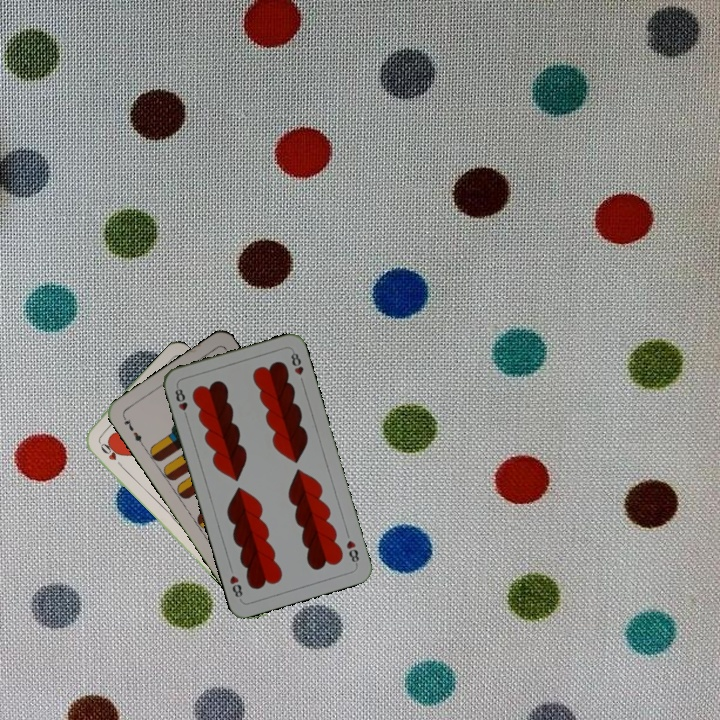E7: (119, 412, 146, 448)
H8: (171, 382, 191, 422), (342, 536, 362, 568)
HO: (95, 438, 126, 471)
